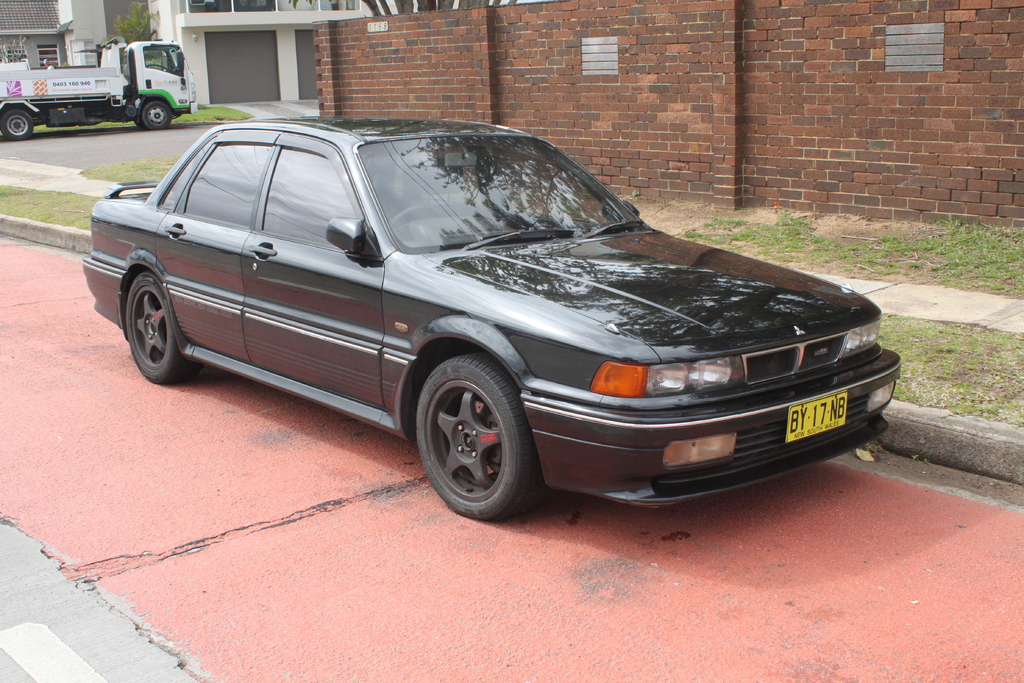Car: (80, 117, 903, 528)
